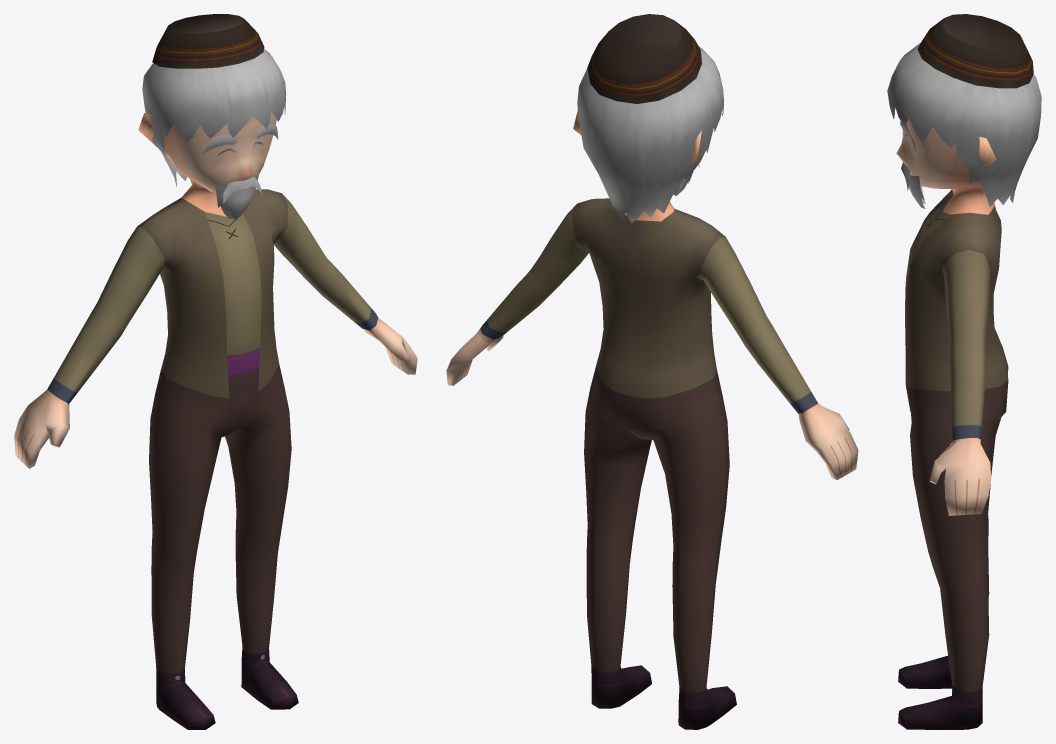
3 views of the same model, side by side, from view 1: azimuth 30°, elevation 25°; view 2: azimuth 150°, elevation 25°; view 3: azimuth 270°, elevation 25° (orthographic). The views are drawn at different scales.
Parts seen in each view (by area): view 1: Peasant Elder Halden, Hat, Beard; view 2: Peasant Elder Halden, Hat; view 3: Peasant Elder Halden, Hat, Beard.
Boxes of the visible parts, <box> form: Peasant Elder Halden: <box>14,49,417,729</box>; Hat: <box>152,14,264,68</box>; Beard: <box>215,174,258,220</box>; Peasant Elder Halden: <box>446,46,858,729</box>; Hat: <box>587,14,701,103</box>; Peasant Elder Halden: <box>887,42,1041,729</box>; Hat: <box>917,14,1033,88</box>; Beard: <box>909,175,925,208</box>.
Bounding box in the file's own units: 255 × 425 × 87.63.
